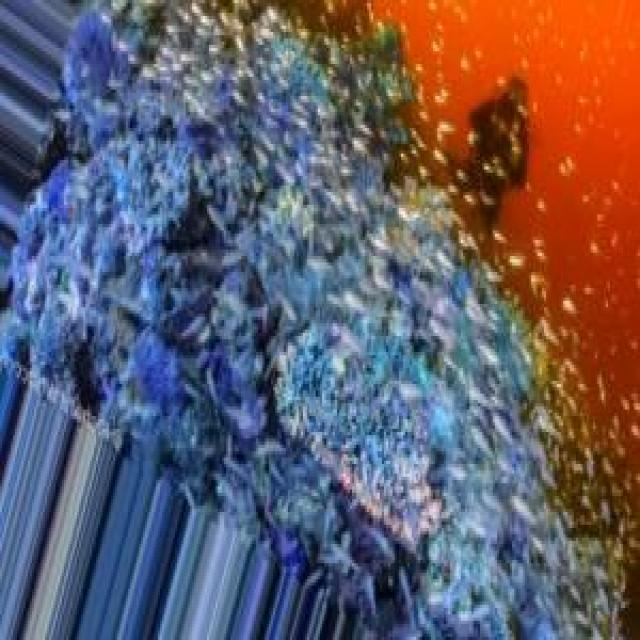Healthy: (18, 1, 632, 640)
